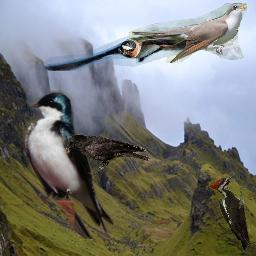Crow: (64, 134, 150, 175)
Cuckoo: (129, 3, 247, 63)
Swallow: (22, 90, 114, 239), (43, 27, 211, 71)
Woodpecker: (207, 172, 250, 251)
